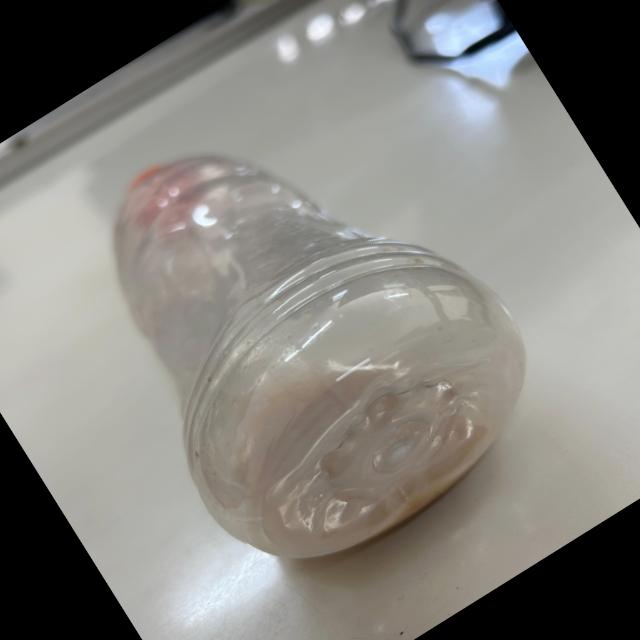inorganic: (38, 46, 574, 607)
